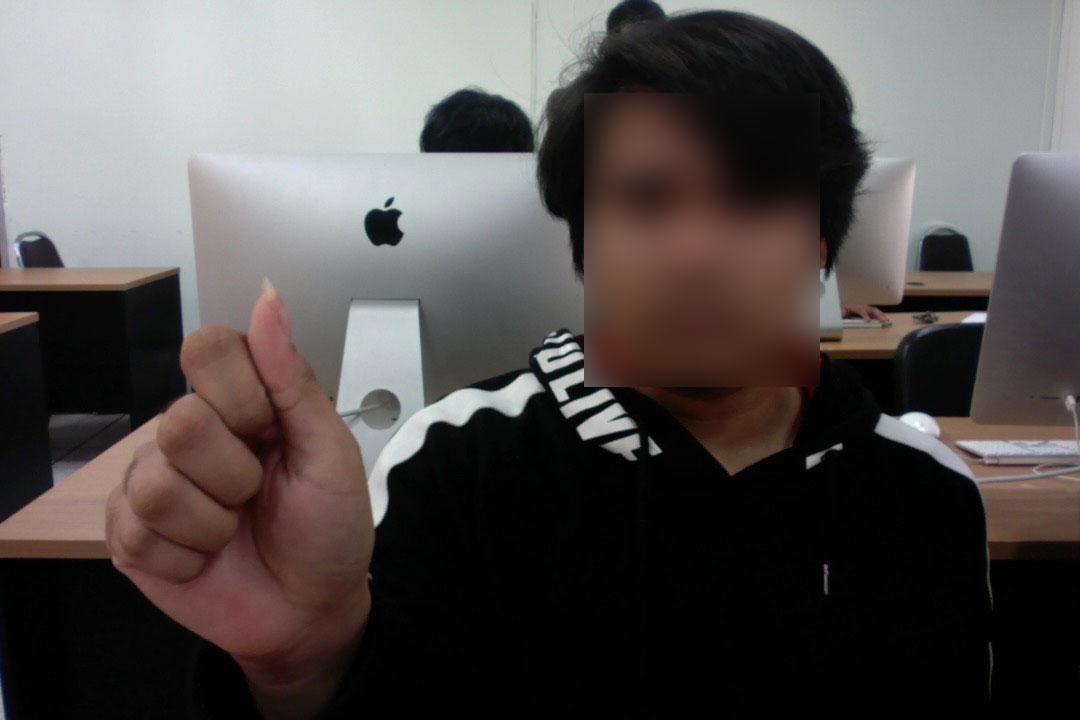or: (80, 266, 394, 670)
